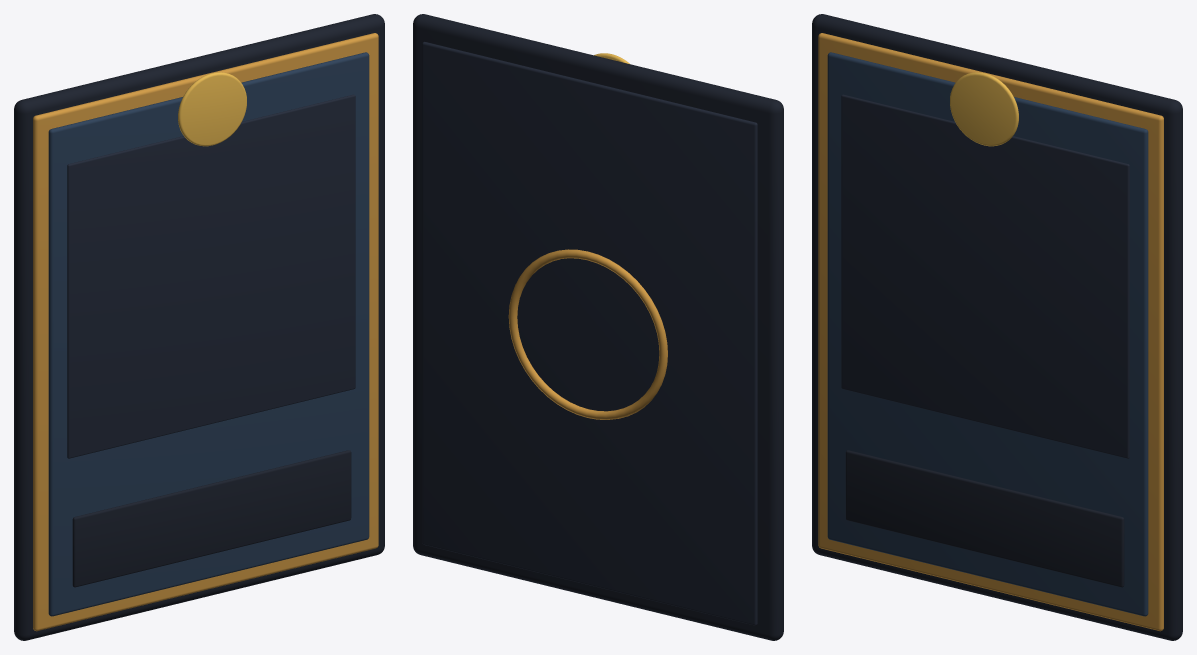
File: futhub-standard-card.glb
The picture shows the model from 3 angles, left to right: view 1: azimuth 30°, elevation 25°; view 2: azimuth 150°, elevation 25°; view 3: azimuth 330°, elevation 25°; orthographic projection.
Parts seen in each view (by area): view 1: CardBase_PortraitSlot, CardBase_FrontSurface, CardBase_Body, CardBase_MetalFrame, CardBase_Nameplate, CardBase_CrestSlot; view 2: CardBase_BackSurface, CardBase_Body, CardBase_BackMark; view 3: CardBase_PortraitSlot, CardBase_FrontSurface, CardBase_Body, CardBase_MetalFrame, CardBase_Nameplate, CardBase_CrestSlot.
Boxes of the visible parts, x1,y1,x2,y2 form: CardBase_PortraitSlot: [67, 94, 355, 458]; CardBase_FrontSurface: [48, 52, 369, 616]; CardBase_Body: [14, 14, 384, 640]; CardBase_MetalFrame: [33, 33, 378, 631]; CardBase_Nameplate: [72, 450, 351, 587]; CardBase_CrestSlot: [178, 72, 246, 146]; CardBase_BackSurface: [422, 41, 757, 625]; CardBase_Body: [413, 14, 783, 640]; CardBase_BackMark: [508, 249, 667, 419]; CardBase_PortraitSlot: [841, 94, 1129, 458]; CardBase_FrontSurface: [827, 52, 1148, 616]; CardBase_Body: [812, 14, 1182, 640]; CardBase_MetalFrame: [818, 33, 1163, 631]; CardBase_Nameplate: [845, 450, 1124, 587]; CardBase_CrestSlot: [950, 72, 1018, 146].
Bounding box in the file's own units: 2.2 × 3.08 × 0.2728.
